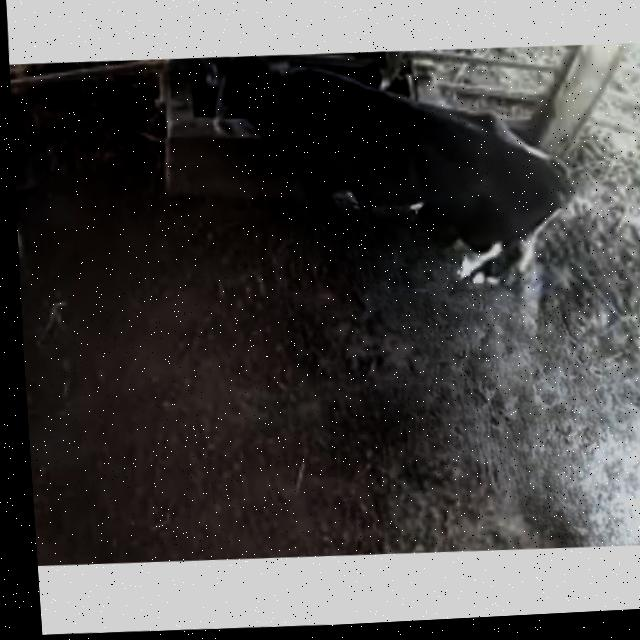drink: (171, 48, 365, 187)
